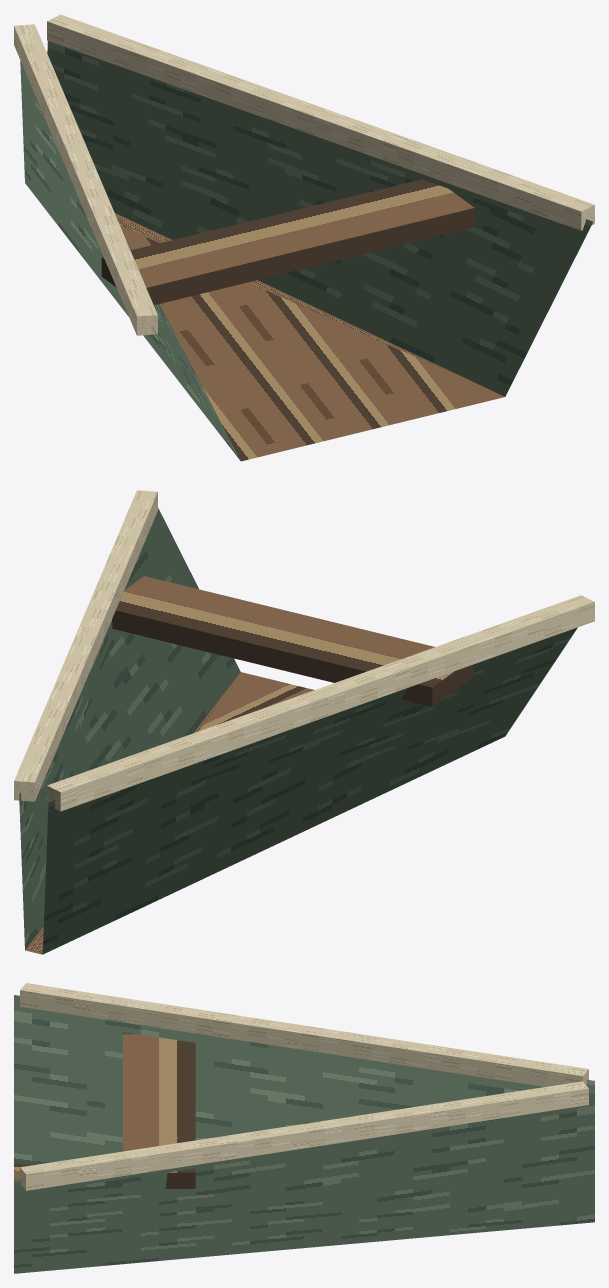
File: rowboat_bow_tile.gltf
3 views of the same model, one above another, from view 1: azimuth 30°, elevation 25°; view 2: azimuth 150°, elevation 25°; view 3: azimuth 270°, elevation 25° (orthographic). The views are drawn at different scales.
Visible parts, largest first — view 1: hull_starboard, bottom, seat, gunwale_starboard, gunwale_port, hull_port; view 2: hull_port, hull_starboard, seat, gunwale_port, gunwale_starboard, bottom; view 3: hull_starboard, hull_port, gunwale_starboard, gunwale_port, seat.
Boxes of the visible parts, box(x1,y1,x2,y2) form: hull_starboard: box(47, 41, 592, 396); bottom: box(115, 213, 504, 461); seat: box(101, 179, 474, 305); gunwale_starboard: box(47, 14, 594, 230); gunwale_port: box(14, 24, 157, 335); hull_port: box(20, 60, 240, 460); hull_port: box(42, 627, 577, 954); hull_starboard: box(19, 508, 240, 949); seat: box(112, 576, 474, 706); gunwale_port: box(47, 595, 594, 811); gunwale_starboard: box(14, 490, 157, 801); bottom: box(25, 672, 314, 954); hull_starboard: box(14, 1093, 594, 1273); hull_port: box(14, 995, 594, 1164); gunwale_starboard: box(20, 1081, 588, 1190); gunwale_port: box(20, 983, 588, 1086); seat: box(123, 1034, 195, 1188).
Bounding box in the file's own units: 1.56 × 0.5312 × 2.
Materials: 3 (3 with a texture image).
